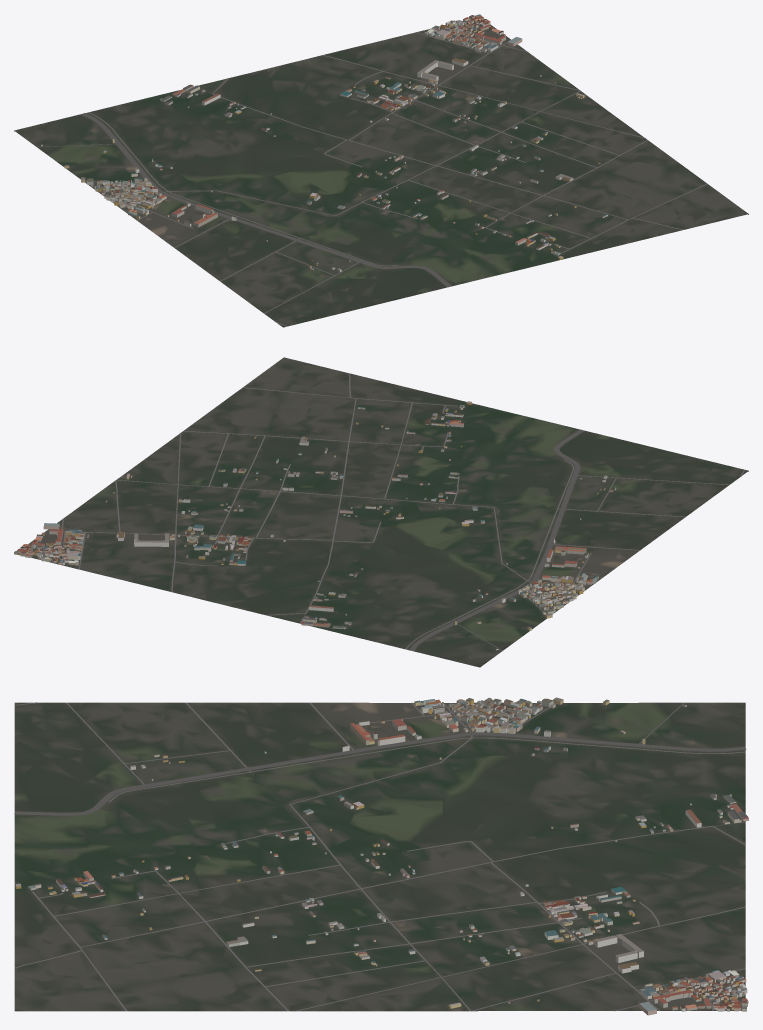
3 renders of one model, top to bottom at view 1: azimuth 30°, elevation 25°; view 2: azimuth 150°, elevation 25°; view 3: azimuth 270°, elevation 25°, orthographic. The views are drawn at different scales.
Visible parts, largest first — view 1: ground, buildings, roads; view 2: ground, buildings, roads; view 3: ground, buildings, roads.
Part boxes in pixels (bbox=[...]): ground: bbox=[14, 19, 748, 327]; buildings: bbox=[41, 14, 607, 271]; roads: bbox=[37, 25, 707, 326]; ground: bbox=[25, 357, 748, 667]; buildings: bbox=[14, 401, 616, 650]; roads: bbox=[33, 373, 744, 650]; ground: bbox=[14, 702, 745, 1011]; buildings: bbox=[15, 697, 748, 1015]; roads: bbox=[14, 702, 746, 1011].
Bounding box in the file's own units: 1429 × 15.61 × 1409.
